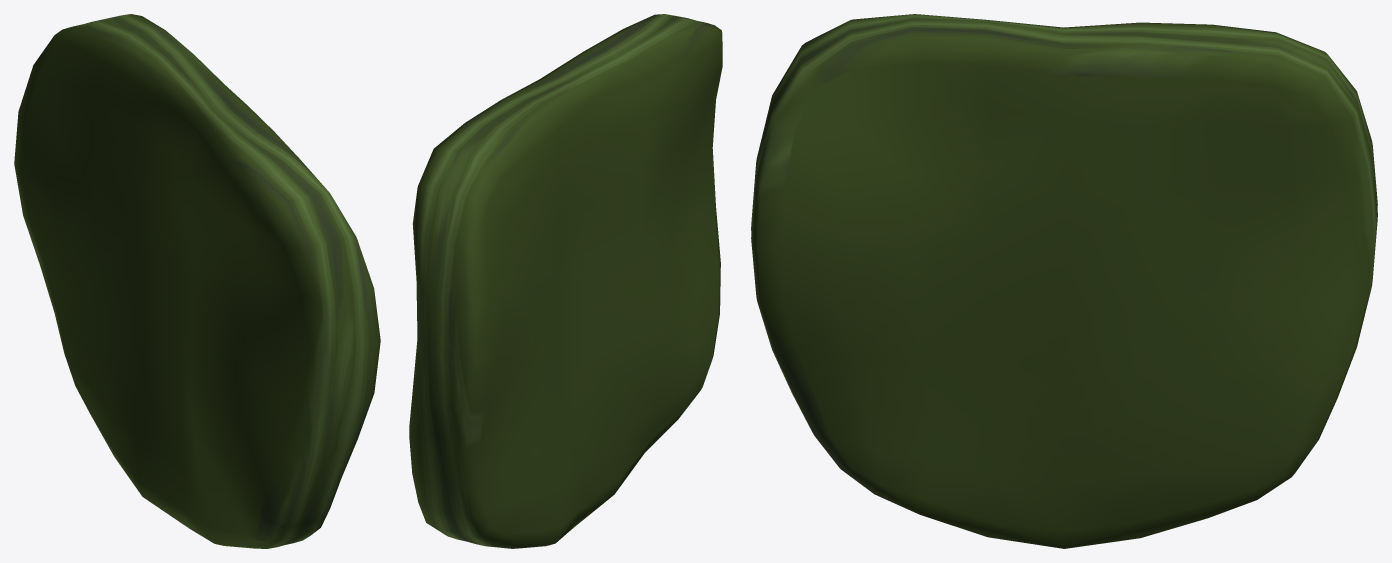
File: StarPathTie.fbx
3 views of the same model, side by side, from view 1: azimuth 30°, elevation 25°; view 2: azimuth 150°, elevation 25°; view 3: azimuth 270°, elevation 25° (orthographic). The views are drawn at different scales.
Parts seen in each view (by area): view 1: StarPathTie; view 2: StarPathTie; view 3: StarPathTie.
Boxes of the visible parts, box(x1,y1,x2,y2) form: StarPathTie: box(14, 14, 380, 548); StarPathTie: box(409, 14, 722, 548); StarPathTie: box(751, 14, 1377, 548).
Bounding box in the file's own units: 51.37 × 215 × 243.
1 material, 1 textured.
